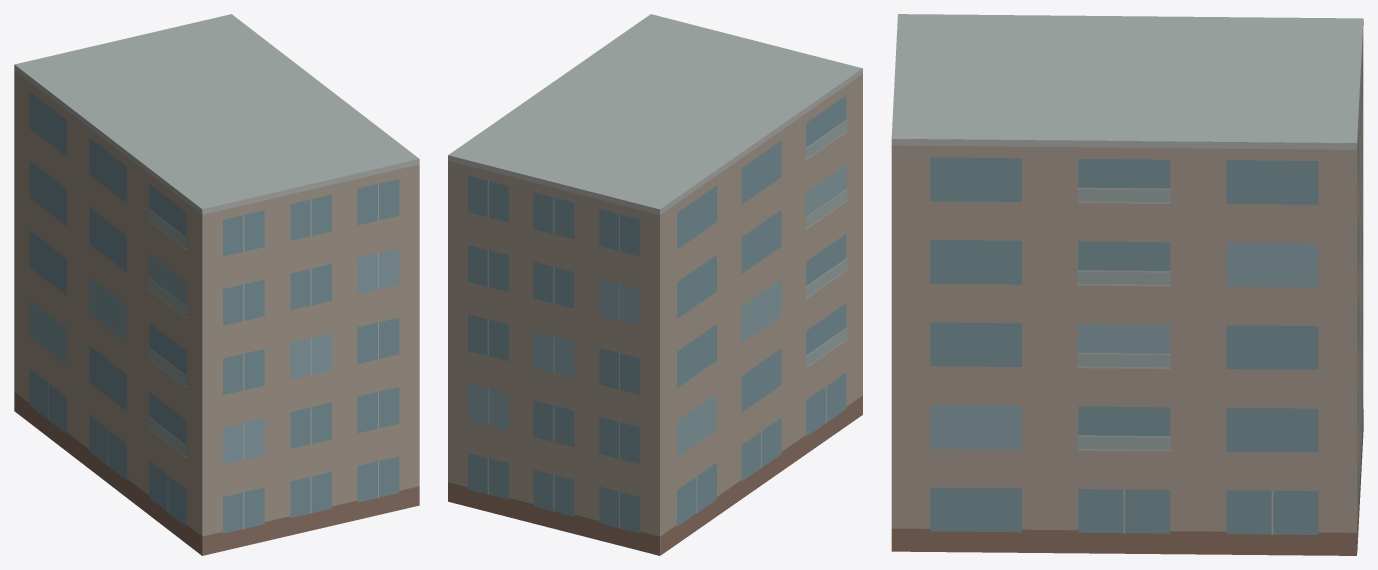
Rendered from residential-736ebb36-77a9-4b9c-b4a5-d0bbc25cb64d.glb.
3 views of the same model, side by side, from view 1: azimuth 30°, elevation 25°; view 2: azimuth 150°, elevation 25°; view 3: azimuth 270°, elevation 25° (orthographic). The views are drawn at different scales.
Parts seen in each view (by area): view 1: residential-736ebb36-77a9-4b9c-b4a5-d0bbc25cb64d.tmp; view 2: residential-736ebb36-77a9-4b9c-b4a5-d0bbc25cb64d.tmp; view 3: residential-736ebb36-77a9-4b9c-b4a5-d0bbc25cb64d.tmp.
Boxes of the visible parts, <box> form: residential-736ebb36-77a9-4b9c-b4a5-d0bbc25cb64d.tmp: <box>14,14,419,555</box>; residential-736ebb36-77a9-4b9c-b4a5-d0bbc25cb64d.tmp: <box>448,14,862,555</box>; residential-736ebb36-77a9-4b9c-b4a5-d0bbc25cb64d.tmp: <box>891,14,1363,555</box>.
Bounding box in the file's own units: 10.25 × 15.25 × 15.81.
